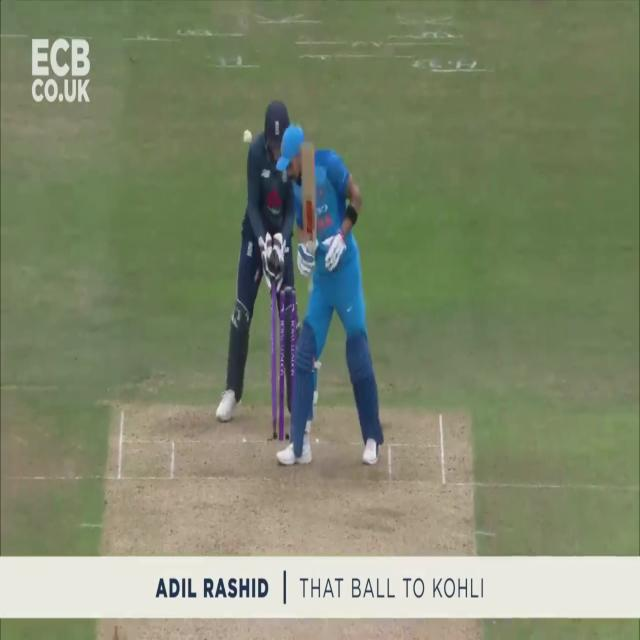ball: (244, 129, 252, 145)
